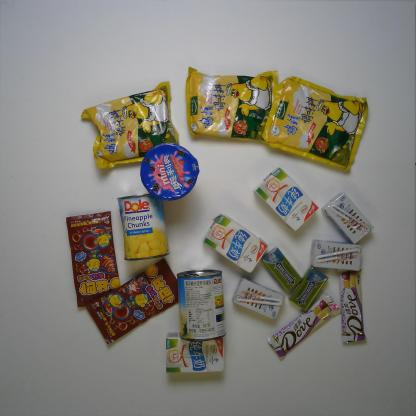Candy: (83, 256, 180, 346), (64, 209, 122, 308)
Canned Food: (115, 191, 173, 262), (174, 268, 228, 343)
Chocolate: (264, 290, 342, 363), (333, 265, 369, 345)
Dessert: (137, 140, 201, 204)
Gum: (259, 244, 305, 294), (286, 262, 330, 313)
Milk: (196, 211, 270, 276), (252, 166, 321, 232), (321, 189, 378, 246), (162, 328, 228, 375), (230, 274, 287, 322), (306, 237, 366, 273)
Seasoner: (260, 74, 370, 175), (76, 80, 181, 171), (183, 64, 281, 146)
